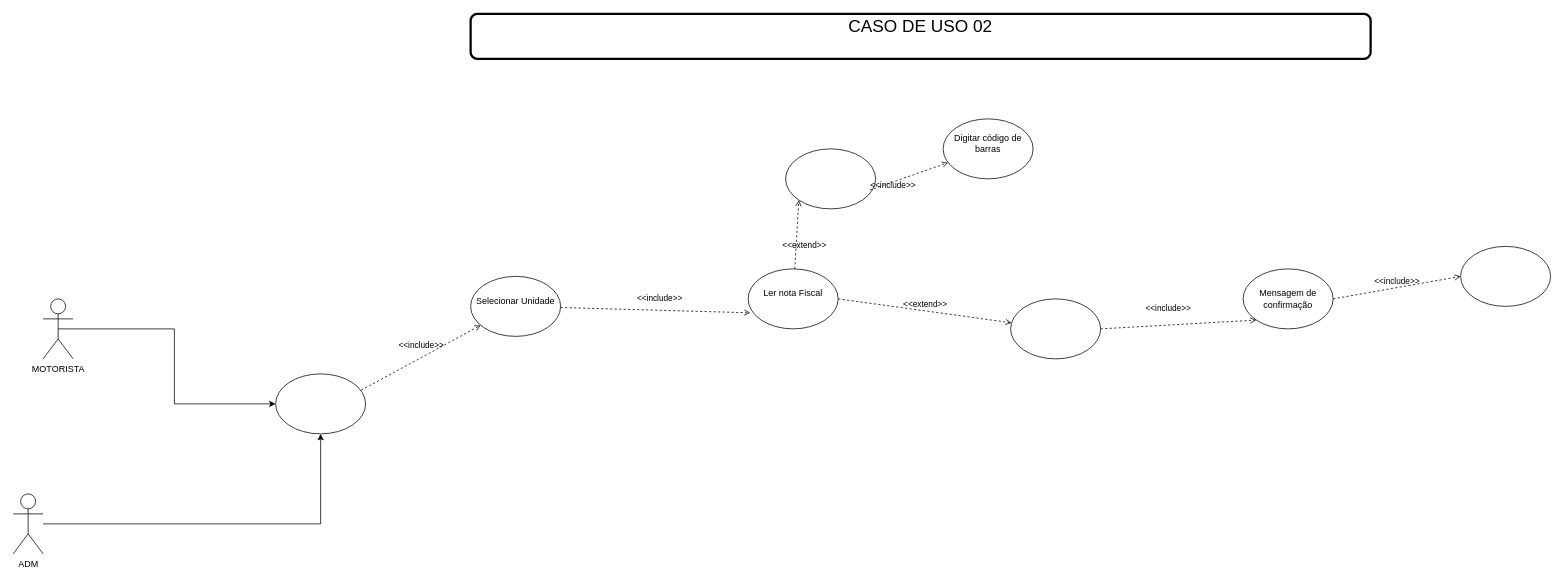
Some shapes in this 1564 by 583 pixel diagram are drawn without their labels. The centre of each missing label's shape, as x and y in pixels:
AGENDAR CARGA: point 320,403
Erro de leitura da nota: point 830,178
Selecionar Horário: point 1055,328
Visualização do agendamento: point 1505,276
